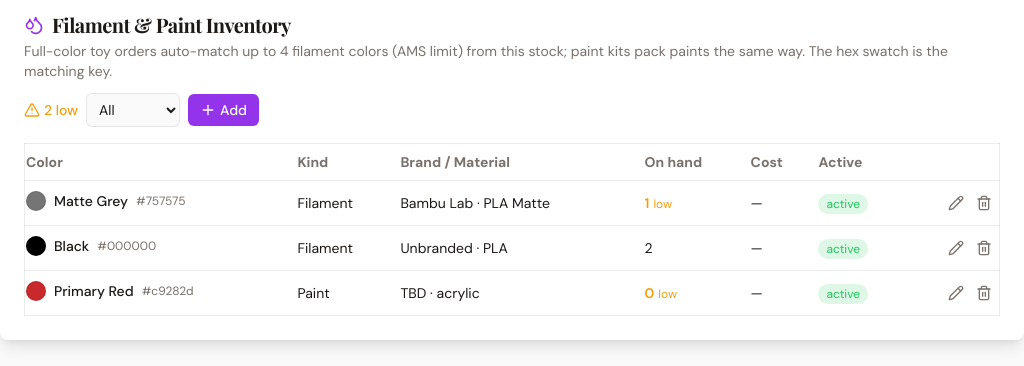
AdminPrintMaterials › filters by kind client-side without refetching
Expected: the text "Matte Grey" is shown, 54,190 -> 128,210
Select "Paint" in the dropdown showing "All". click: (133, 110)
box: 86,93 -> 180,127
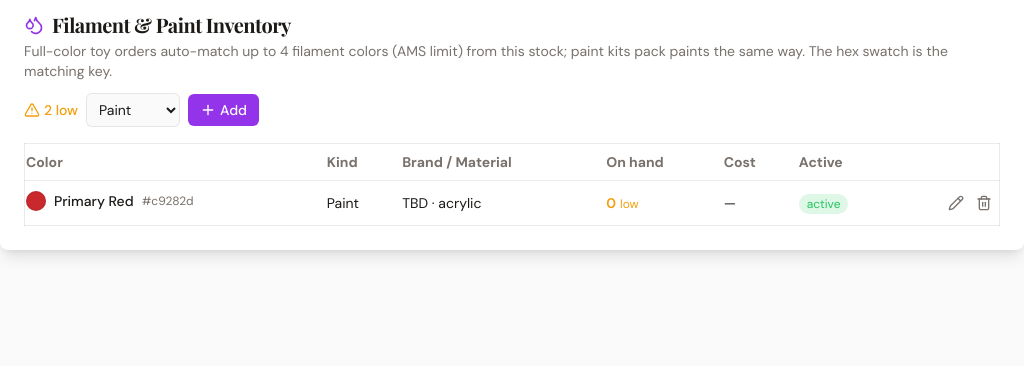
Expected: the text "Primary Red" is shown, 54,190 -> 134,210
Expected: the text "Matte Grey" is gone
